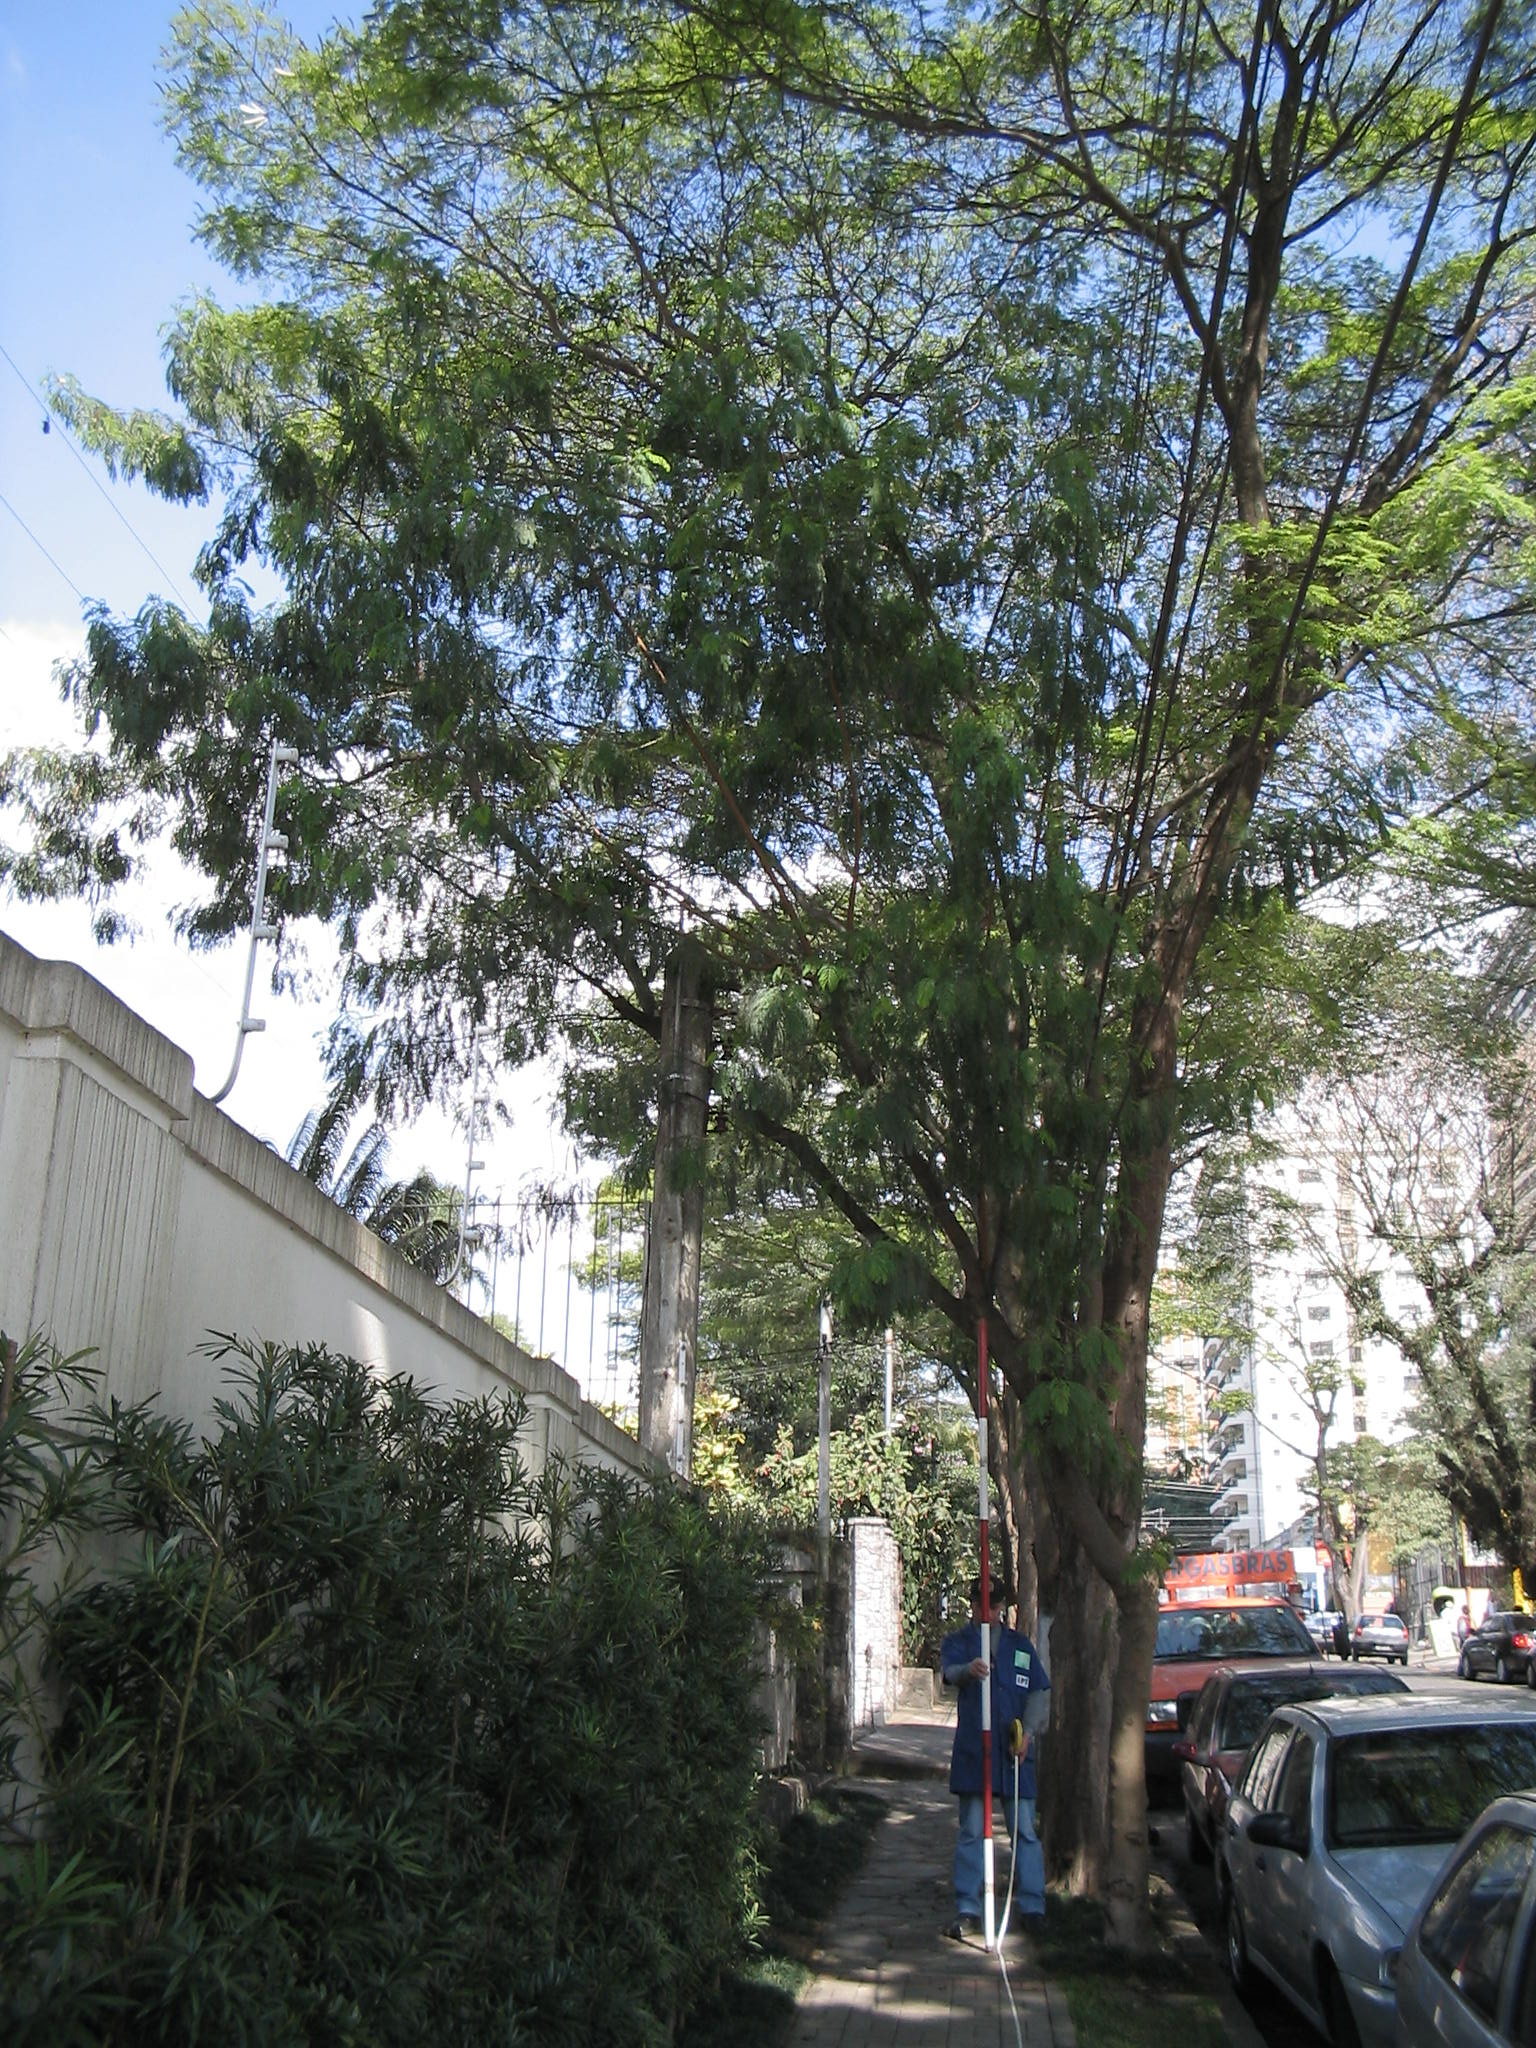crown: (16, 11, 1526, 1430)
stem: (1046, 1456, 1184, 1954)
stick: (954, 1319, 1008, 1946)
tree: (8, 6, 1533, 1954)
